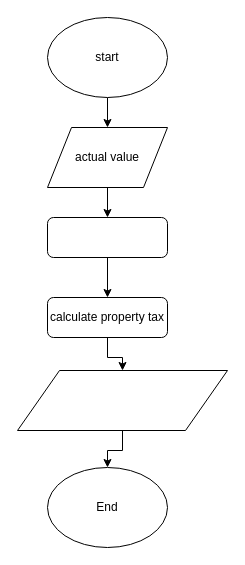
Image size: 245x565. Some labels were removed from this diagram. The shapes that lost their labels are listed below. From the top down, each one's centre as x and y in pixels, then its label:
(107,237): calculate assessment value
(122,400): Output assessment value and property tax
